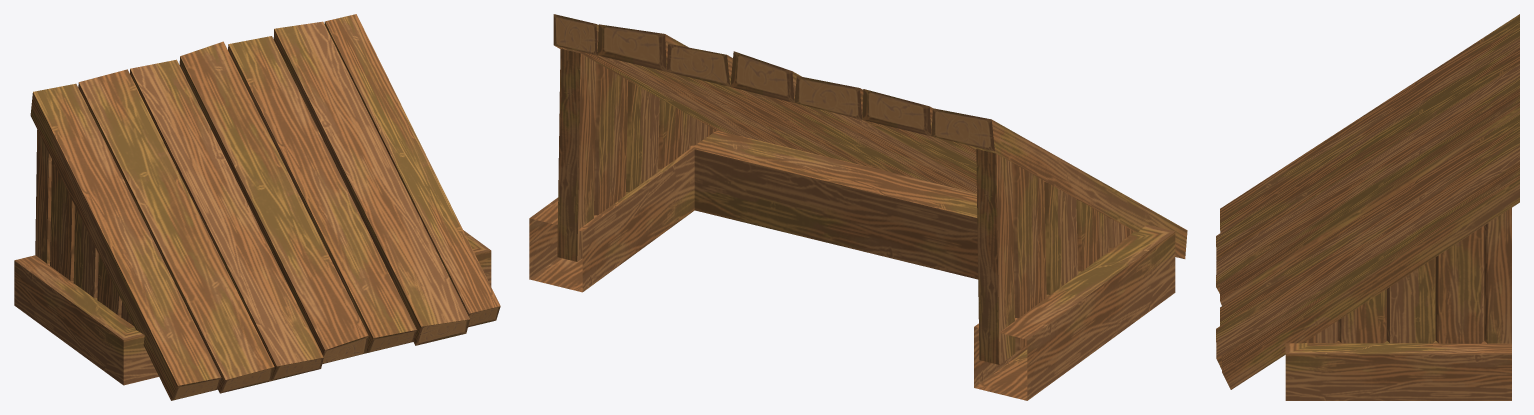
The model's file is Roof_Wooden_2x1.gltf.
3 renders of one model, left to right at view 1: azimuth 30°, elevation 25°; view 2: azimuth 150°, elevation 25°; view 3: azimuth 270°, elevation 25°, orthographic. The views are drawn at different scales.
Parts seen in each view (by area): view 1: Roof_Wooden_2x1; view 2: Roof_Wooden_2x1; view 3: Roof_Wooden_2x1.
Part boxes in pixels (<box>): Roof_Wooden_2x1: <box>14,14,500,400</box>; Roof_Wooden_2x1: <box>529,14,1187,400</box>; Roof_Wooden_2x1: <box>1216,14,1519,400</box>.
Bounding box in the file's own units: 2.26 × 1.25 × 1.56.
Materials: 1 (1 with a texture image).
